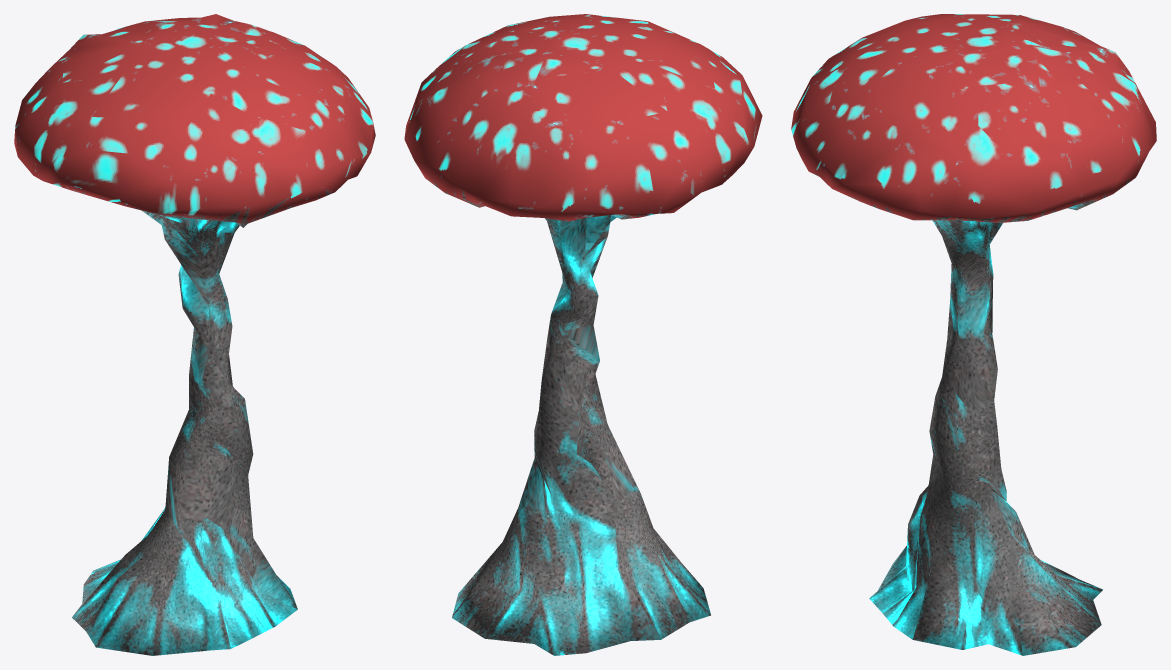
Rendered from hongoLow.fbx.
3 renders of one model, left to right at view 1: azimuth 30°, elevation 25°; view 2: azimuth 150°, elevation 25°; view 3: azimuth 270°, elevation 25°, orthographic.
Parts seen in each view (by area): view 1: DynaWax128; view 2: DynaWax128; view 3: DynaWax128.
Part boxes in pixels (<box>): DynaWax128: <box>14,14,375,655</box>; DynaWax128: <box>404,14,762,655</box>; DynaWax128: <box>791,14,1156,655</box>.
Bounding box in the file's own units: 321 × 560 × 327.
Materials: 1 (1 with a texture image).
